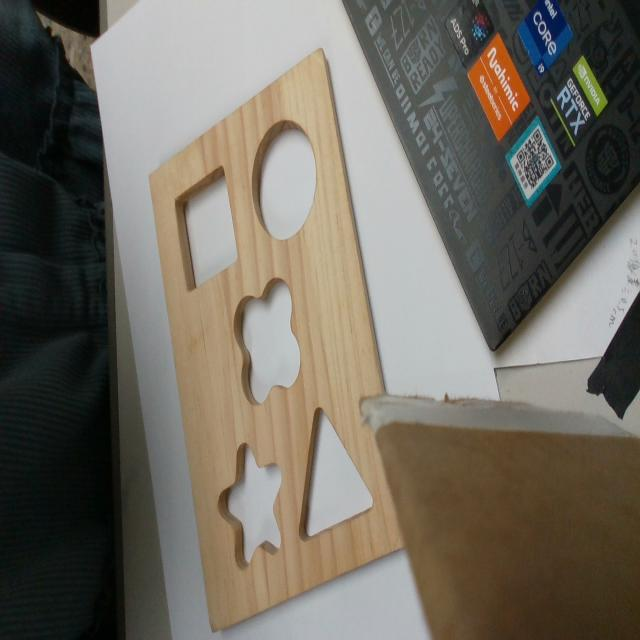circle: (251, 119, 315, 241)
flower: (233, 281, 302, 402)
square: (174, 164, 240, 292)
star: (217, 443, 282, 567)
triangle: (297, 404, 377, 543)
